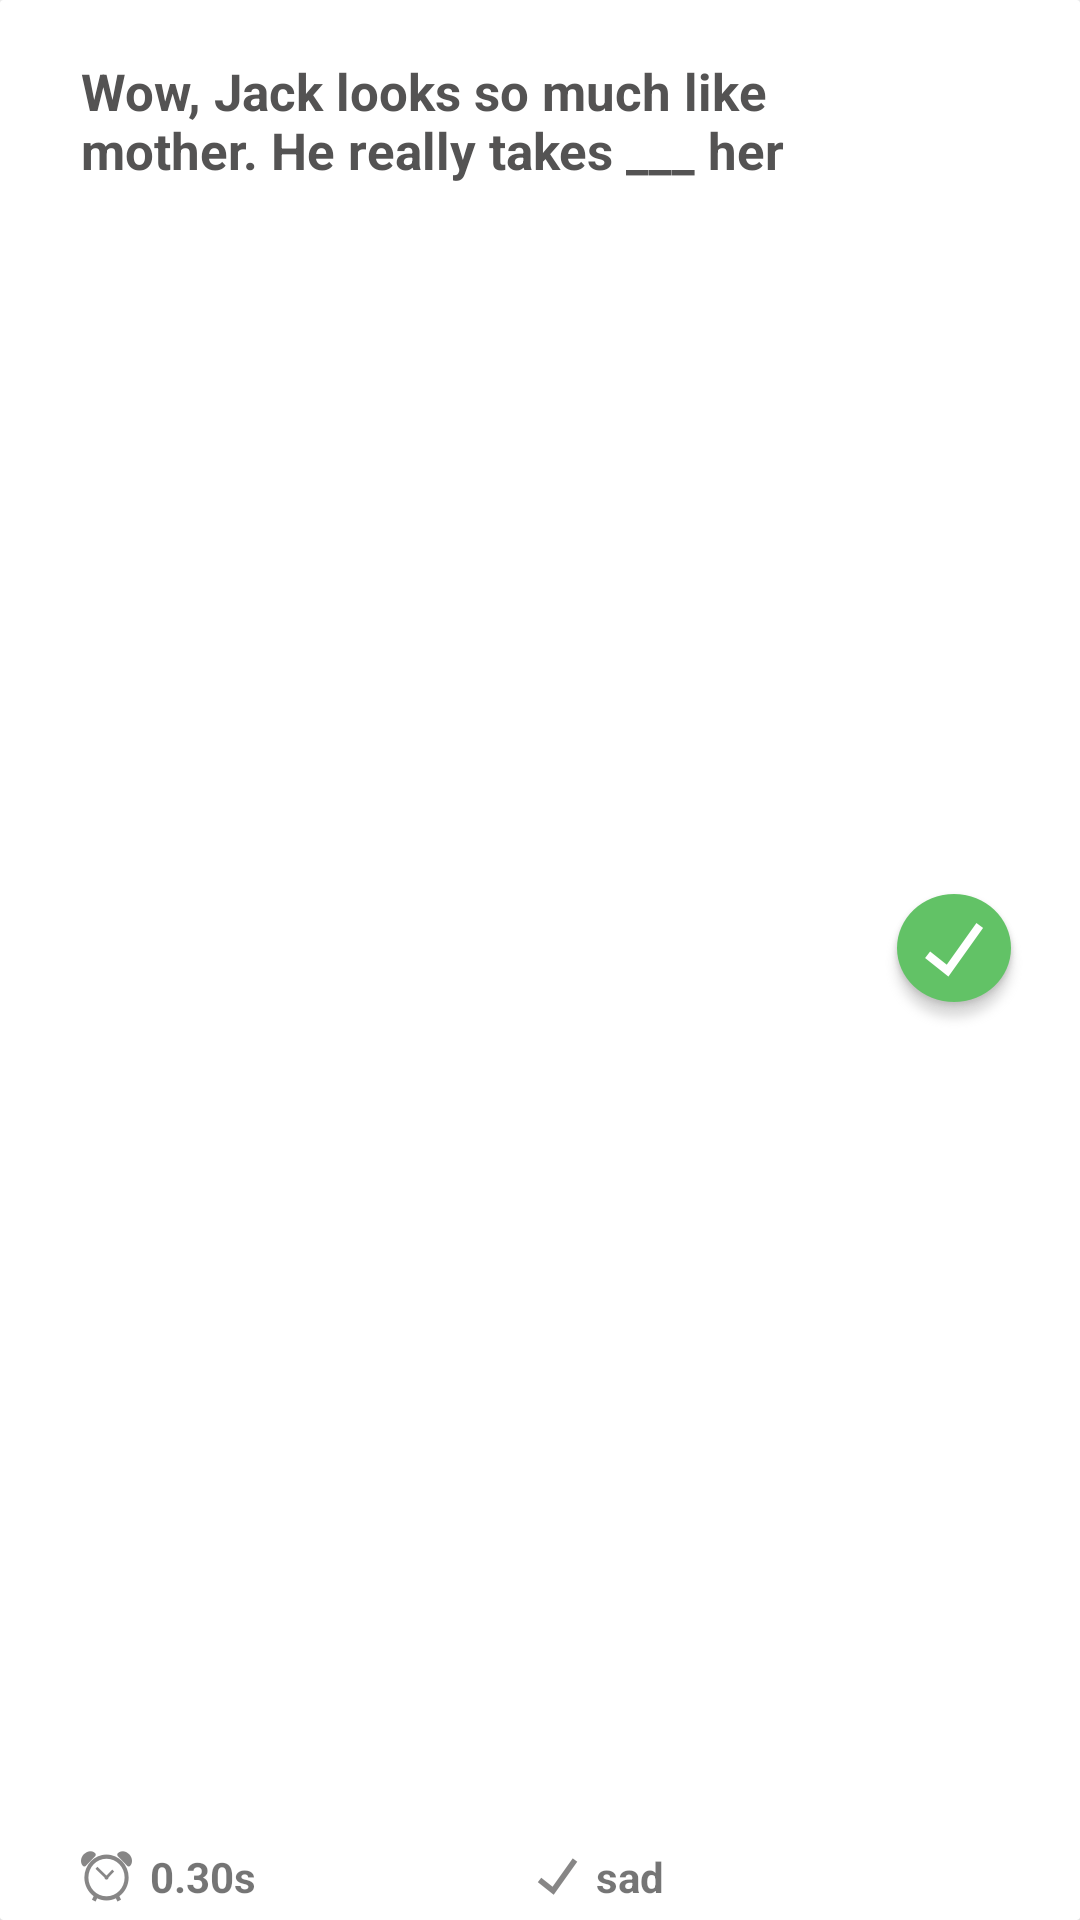

Where icons sit on this 1080px x 1920px app screen, as (x1, y1, x2, y2):
correct: (895, 894, 1013, 1015)
